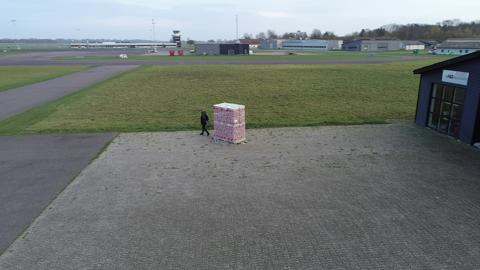RockwoolPallet: (213, 102, 247, 145)
